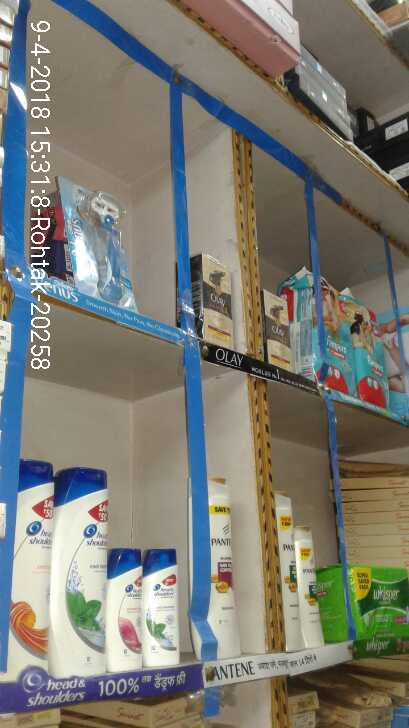venus: (83, 190, 128, 303)
